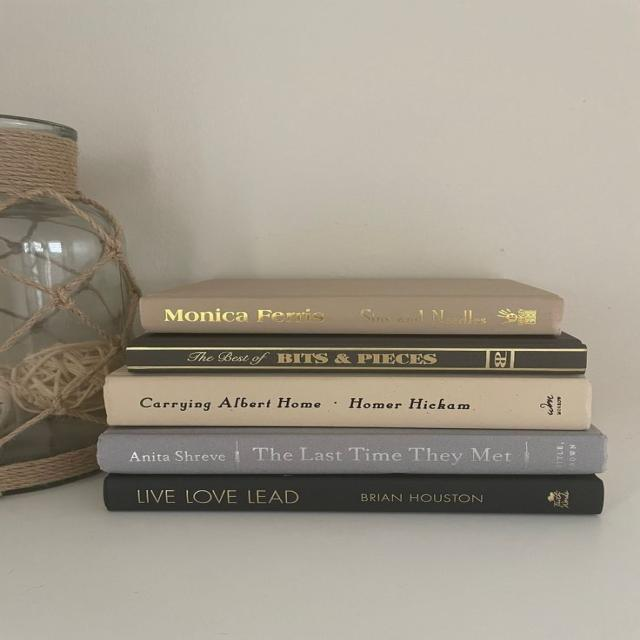book: (106, 377, 591, 429), (103, 432, 602, 471), (107, 475, 602, 514), (142, 294, 561, 335), (125, 344, 589, 376)
